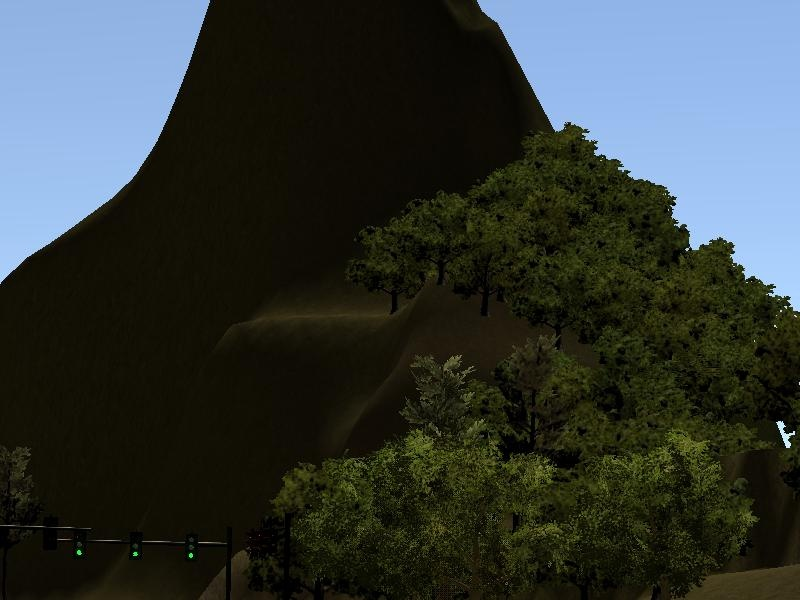GREEN: (181, 526, 200, 568), (124, 526, 144, 565), (69, 523, 88, 561)
